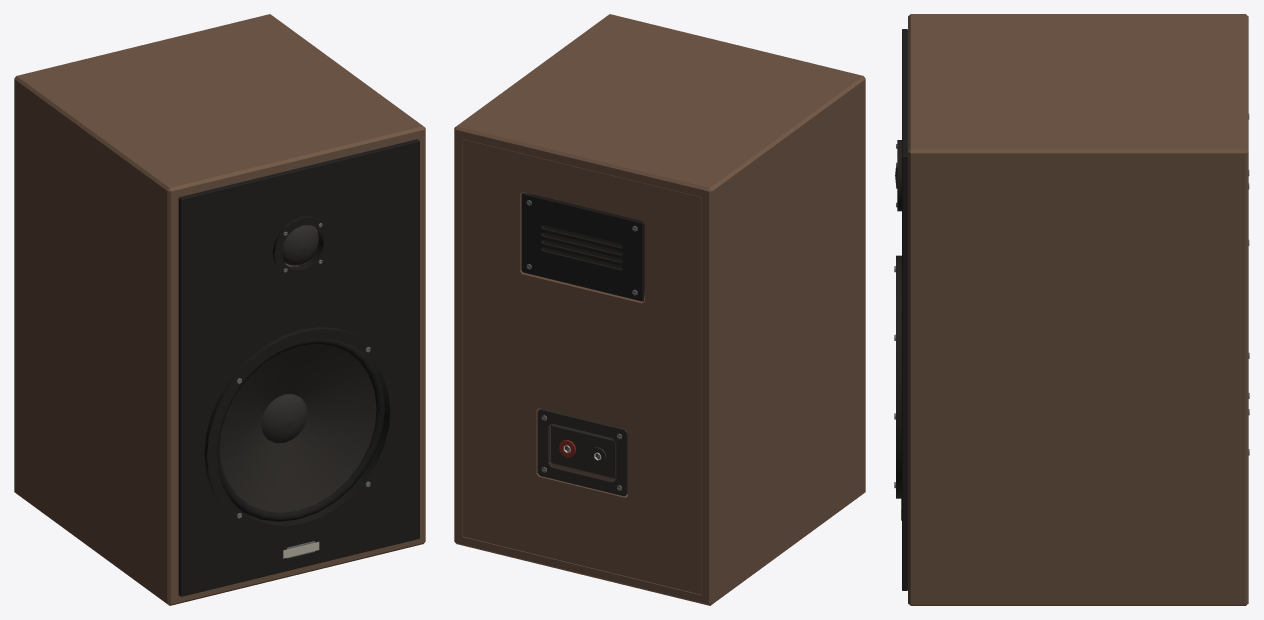
Rendered from bookshelf-speaker-5bcdc96fc39a.glb.
3 views of the same model, side by side, from view 1: azimuth 30°, elevation 25°; view 2: azimuth 150°, elevation 25°; view 3: azimuth 270°, elevation 25° (orthographic). The views are drawn at different scales.
Visible parts, largest first — view 1: wood, enamel-black, cone-paper, rubber-foot, plastic-dark; view 2: wood, enamel-black, plastic-dark; view 3: wood, enamel-black.
Boxes of the visible parts, x1,y1,x2,y2 form: wood: [14, 14, 425, 605]; enamel-black: [178, 139, 419, 596]; cone-paper: [219, 344, 376, 512]; rubber-foot: [216, 339, 384, 521]; plastic-dark: [261, 225, 318, 443]; wood: [454, 14, 865, 605]; enamel-black: [521, 192, 643, 301]; plastic-dark: [532, 194, 644, 496]; wood: [908, 14, 1248, 605]; enamel-black: [896, 29, 907, 590].
Size of the model in its own units: 0.22 by 0.34 by 0.2399.
